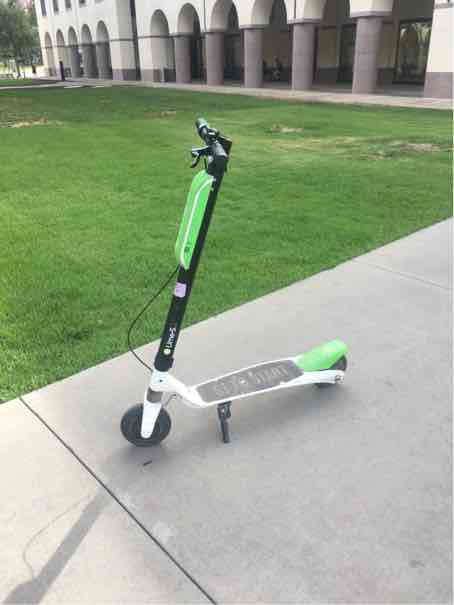scooter: (120, 103, 362, 469)
